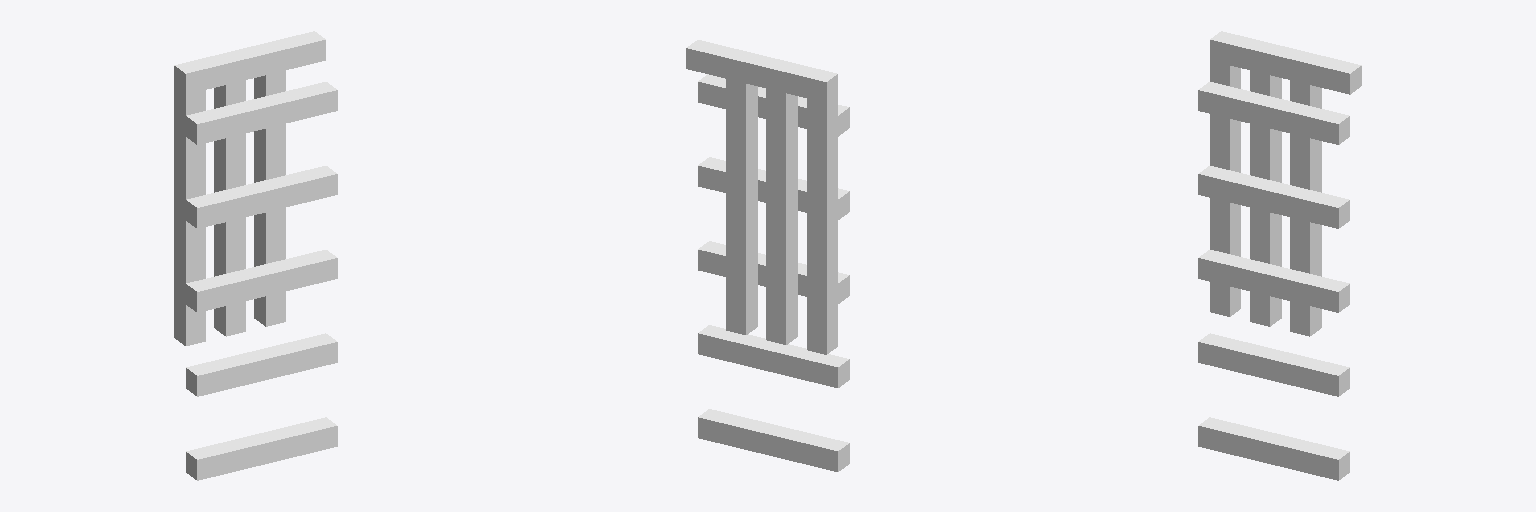
File: TallBuilding01-6.obj
The picture shows the model from 3 angles: view 1: azimuth 30°, elevation 25°; view 2: azimuth 150°, elevation 25°; view 3: azimuth 330°, elevation 25°; orthographic projection.
Visible parts, largest first — view 1: object 1; view 2: object 1; view 3: object 1.
Boxes of the visible parts, x1,y1,x2,y2 form: object 1: [174, 31, 337, 480]; object 1: [686, 40, 849, 471]; object 1: [1198, 31, 1361, 480].
Bounding box in the file's own units: 0.7 × 1.9 × 0.2.